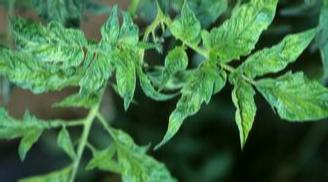Tomato leaf mosaic virus: (151, 63, 220, 152), (201, 0, 295, 64), (233, 22, 322, 85), (250, 65, 328, 128), (2, 11, 85, 68), (109, 49, 139, 114), (173, 0, 203, 41)
